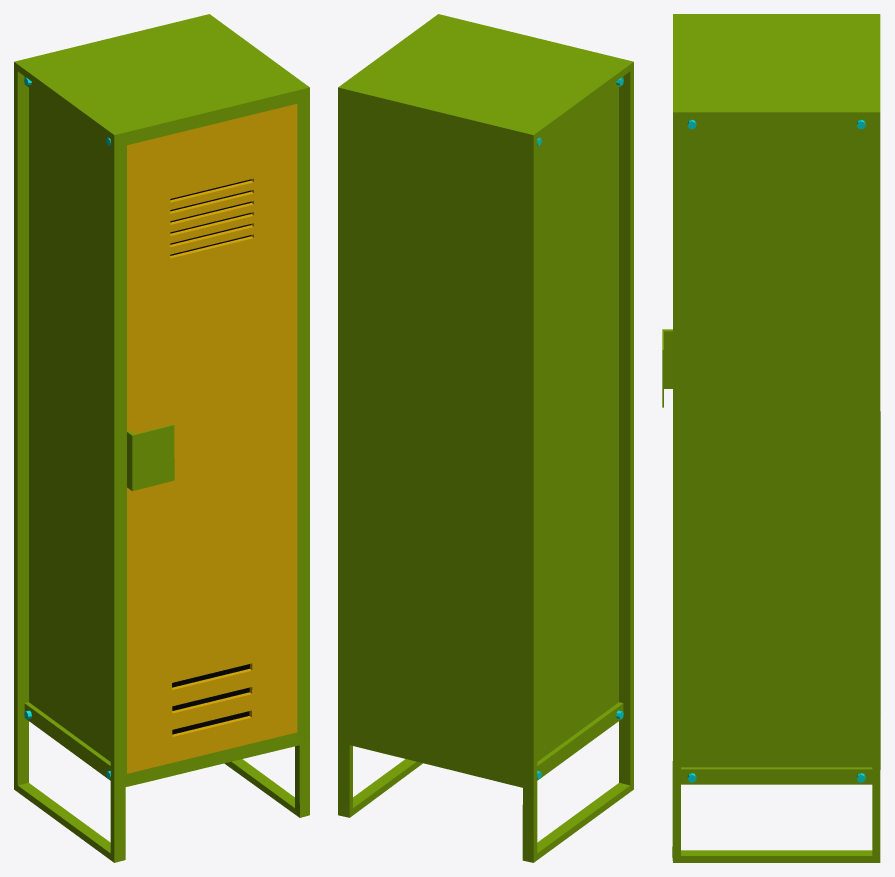
The model's file is fbx_Casier.fbx.
3 views of the same model, side by side, from view 1: azimuth 30°, elevation 25°; view 2: azimuth 150°, elevation 25°; view 3: azimuth 270°, elevation 25° (orthographic). The views are drawn at different scales.
Visible parts, largest first — view 1: pCube14, polySurface4; view 2: pCube14; view 3: pCube14, polySurface4.
Boxes of the visible parts, x1,y1,x2,y2 form: pCube14: [14, 14, 309, 862]; polySurface4: [127, 104, 297, 773]; pCube14: [338, 14, 633, 862]; pCube14: [672, 14, 880, 862]; polySurface4: [662, 329, 672, 407].
Bounding box in the file's own units: 45 × 160 × 42.24.
